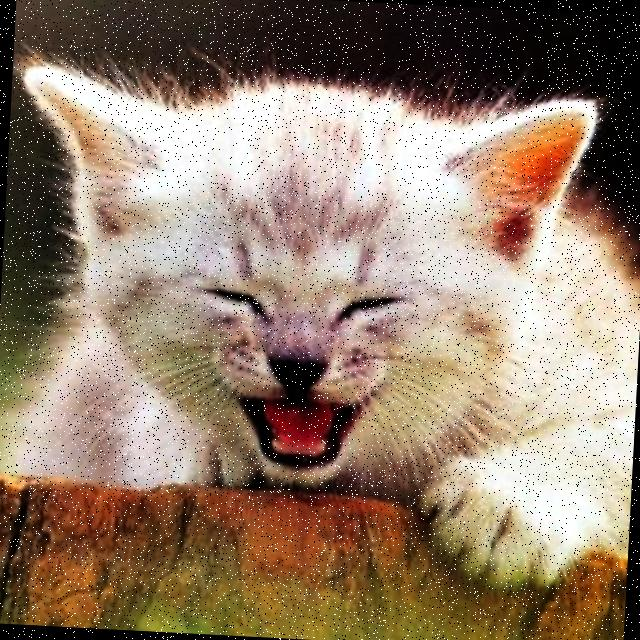Happy: (130, 217, 460, 507)
